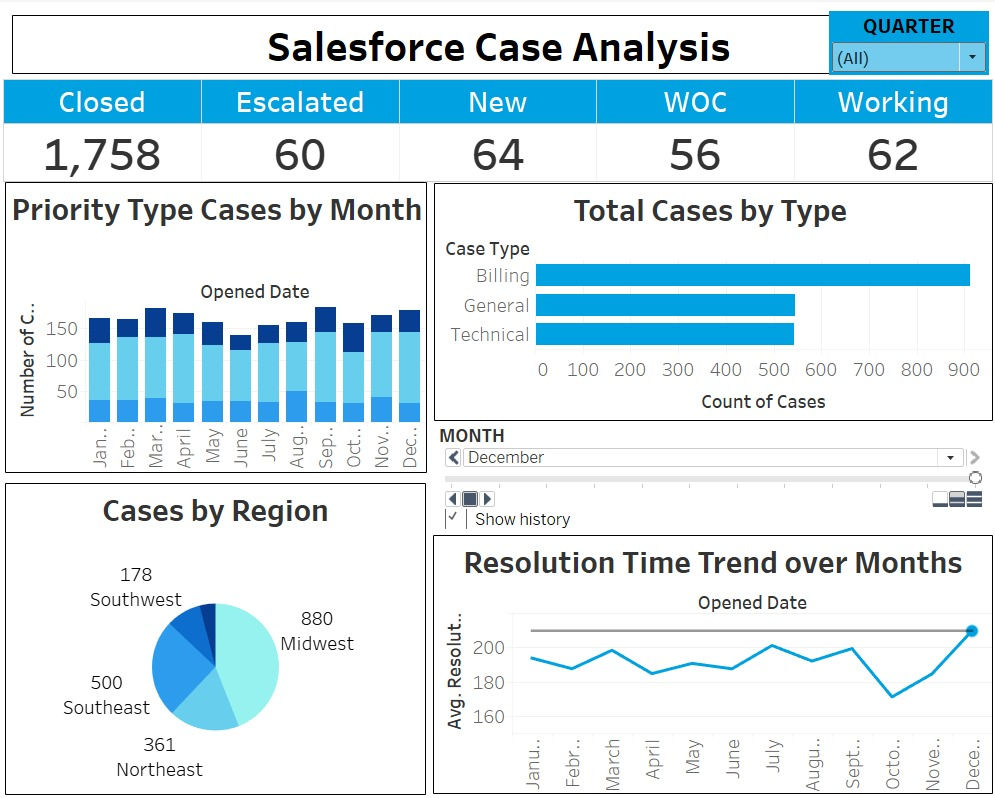

This screenshot's page, from the dashboard's own definition file:
{"tool":"tableau","page":{"name":"Dashboard 1","canvas":[1000,800],"ordinal":0},"visuals":[{"type":"title","box":[8,8,984,69]},{"type":"filter","title":"Sheet 4","param":"[federated.1n0hupl1ypdm6m1cmq0c407e72gz].[qr:opened_date:ok]","box":[830,9,160,64]},{"type":"worksheet","title":"KPIs","mark":"Automatic","cols":["status"],"box":[4,77,990,103]},{"type":"worksheet","title":"Priority","mark":"Bar","rows":["id"],"cols":["opened_date"],"box":[6,180,422,291]},{"type":"worksheet","title":"Case Type","mark":"Automatic","rows":["case_type"],"cols":["id"],"box":[435,181,559,238]},{"type":"currpage","title":"Sheet 4","box":[440,420,549,107]},{"type":"worksheet","title":" Region","mark":"Pie","box":[6,481,421,312]},{"type":"worksheet","title":"Sheet 4","mark":"Circle","rows":["resolution_time"],"cols":["opened_date"],"box":[434,533,560,259]}]}

Visuals, with their boxes in screenshot pixels (x1, y1, x2, y2), scaled from the page's 1000x800 canvas onto the 995x798 screenshot:
title: {"x1": 8, "y1": 8, "x2": 987, "y2": 77}
"Sheet 4" filter: {"x1": 826, "y1": 9, "x2": 985, "y2": 73}
"KPIs" worksheet: {"x1": 4, "y1": 77, "x2": 989, "y2": 180}
"Priority" worksheet (Bar marks): {"x1": 6, "y1": 180, "x2": 426, "y2": 470}
"Case Type" worksheet: {"x1": 433, "y1": 181, "x2": 989, "y2": 418}
"Sheet 4" currpage: {"x1": 438, "y1": 419, "x2": 984, "y2": 526}
" Region" worksheet (Pie marks): {"x1": 6, "y1": 480, "x2": 425, "y2": 791}
"Sheet 4" worksheet (Circle marks): {"x1": 432, "y1": 532, "x2": 989, "y2": 790}
